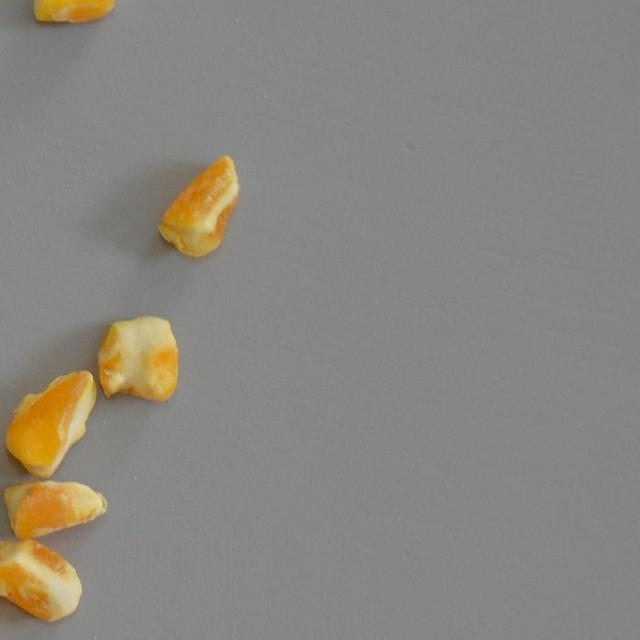pelicula: (2, 368, 96, 478), (156, 152, 244, 258), (96, 316, 178, 402), (0, 536, 82, 622), (1, 478, 109, 539), (32, 0, 132, 29)
